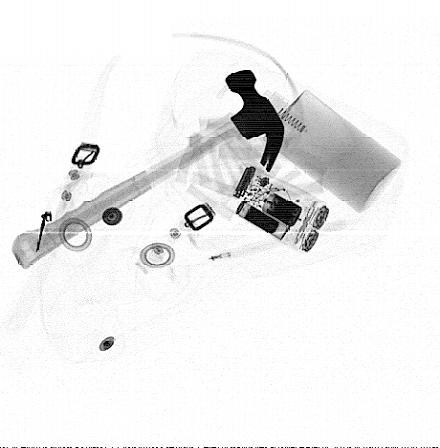Hammer: (11, 69, 286, 271)
